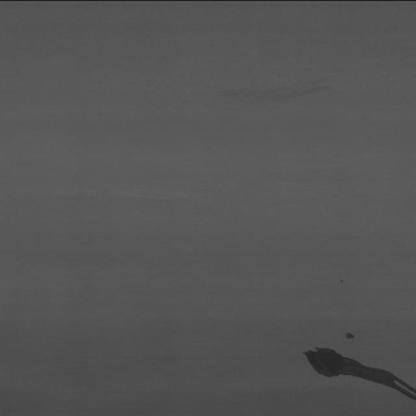oil_spot: (299, 326, 416, 406)
